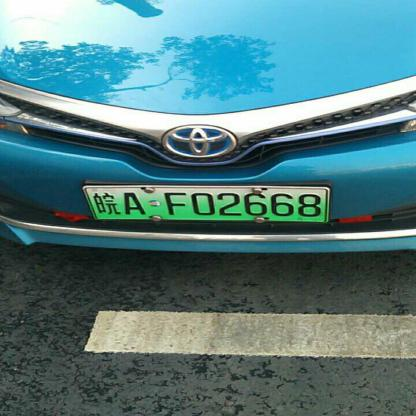lp: (84, 188, 326, 221)
